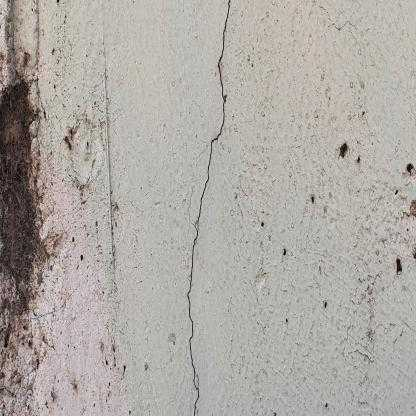crack: (185, 4, 236, 414)
